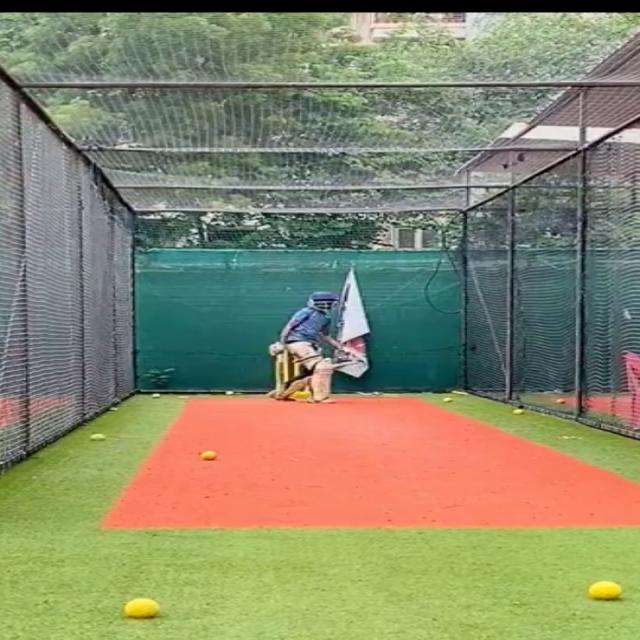ball: (122, 597, 167, 620), (586, 579, 630, 600), (199, 449, 222, 462), (90, 432, 109, 442), (552, 398, 570, 406), (513, 408, 526, 416), (224, 390, 237, 397), (150, 392, 163, 398), (442, 396, 454, 402)
stump: (282, 348, 302, 397)
